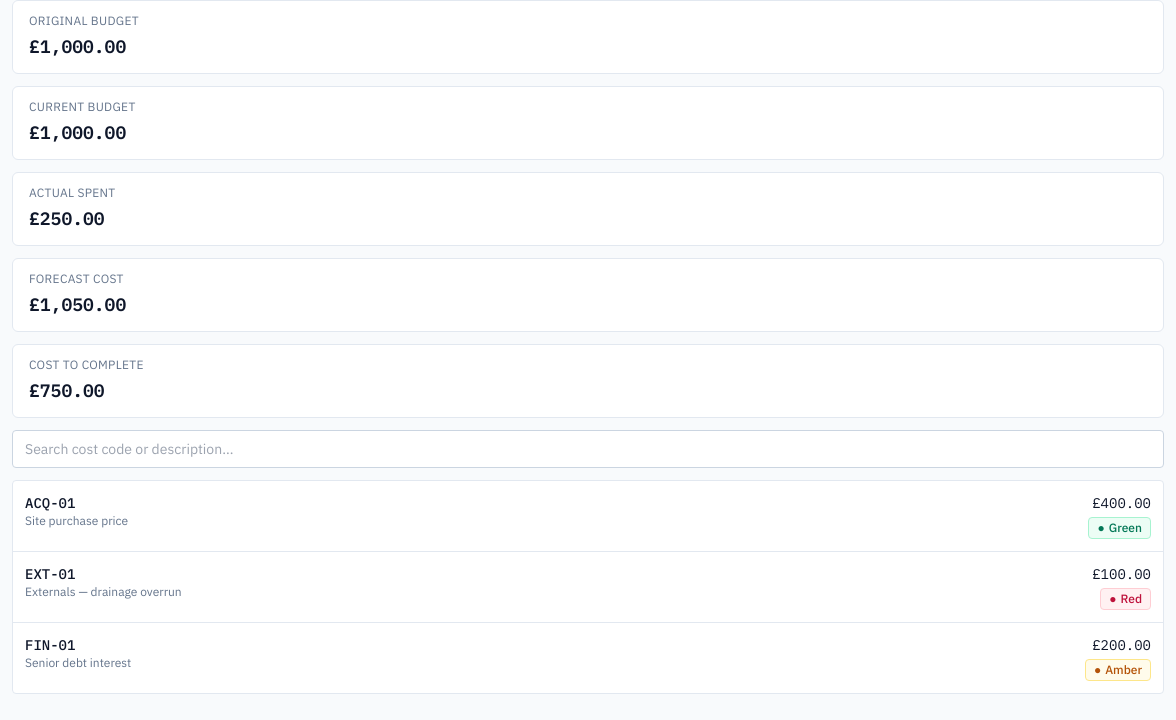
Test: Mobile search — case-insensitive over code + description › search by description (case-insensitive) narrows the list
Step 1. Type "DRAIN" into the search field with test id "bg2-mobile-search" → (588, 449), box [12,430,1164,468]
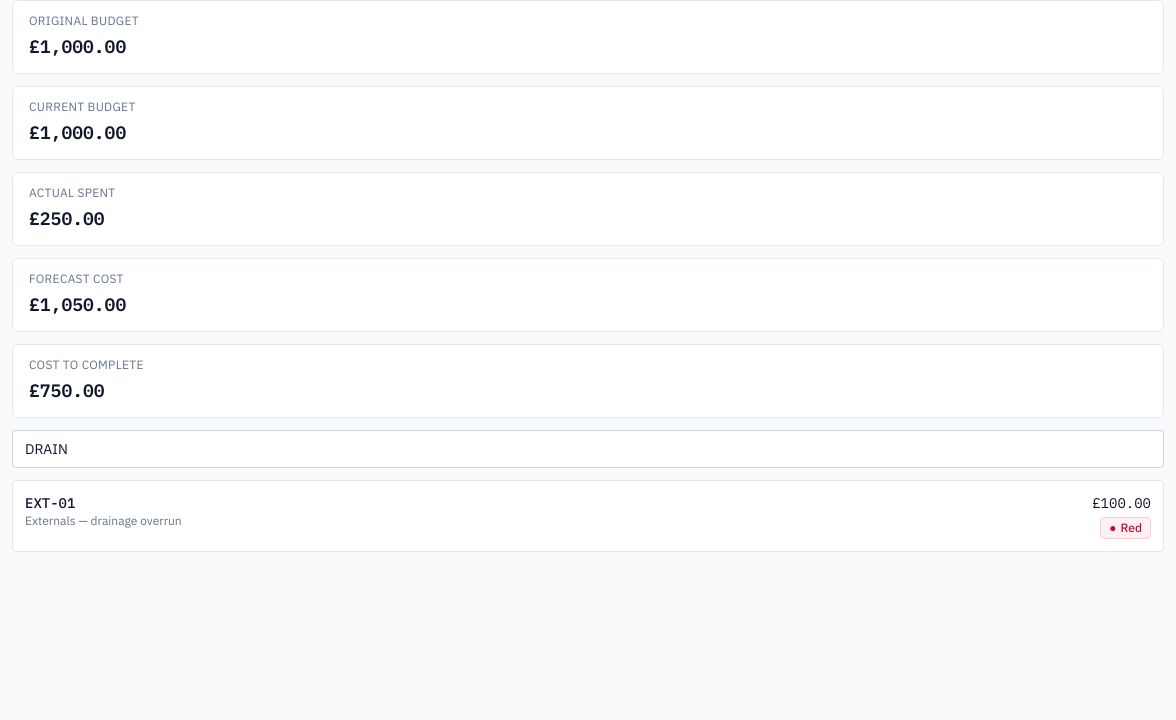
Expected: the button with test id "bg2-mobile-line-l-drainage" is shown, [13,481,1163,551]
Now the button with test id "bg2-mobile-line-l-finance" is gone
